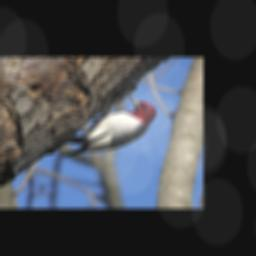Woodpecker: (57, 92, 162, 157)
